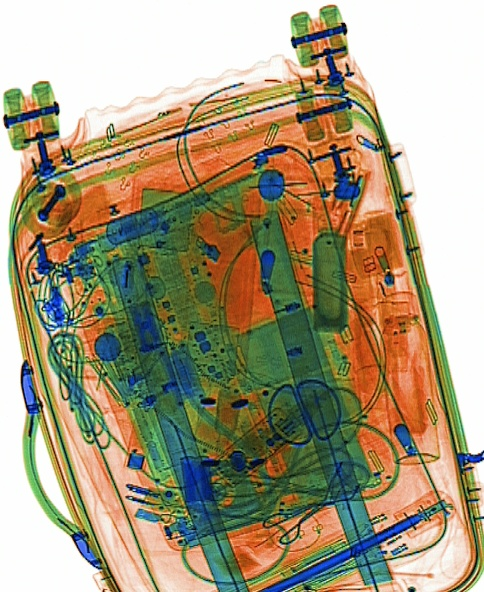pressure: (372, 270, 439, 466)
